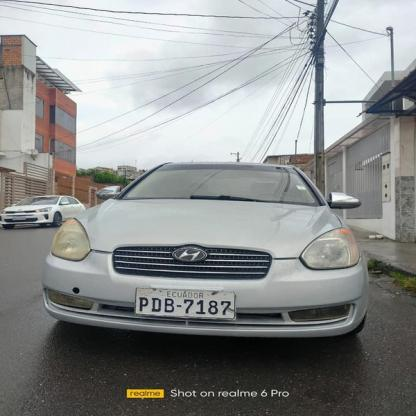Placa: (133, 283, 236, 325)
